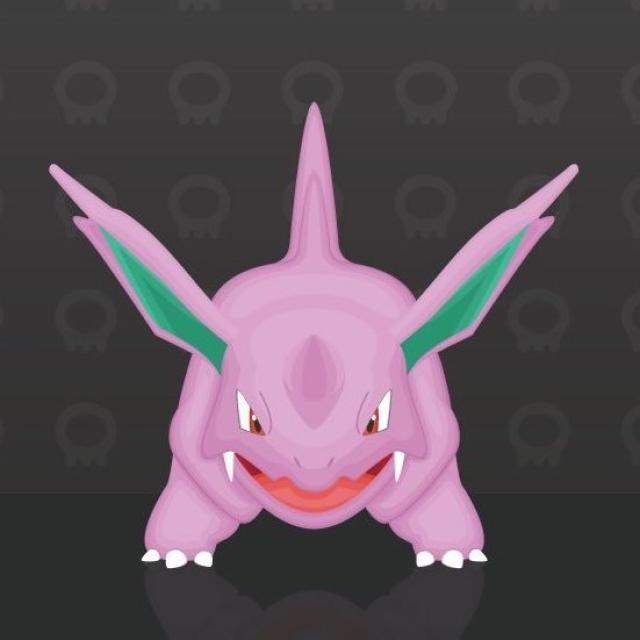Nidorino: (74, 118, 556, 567)
